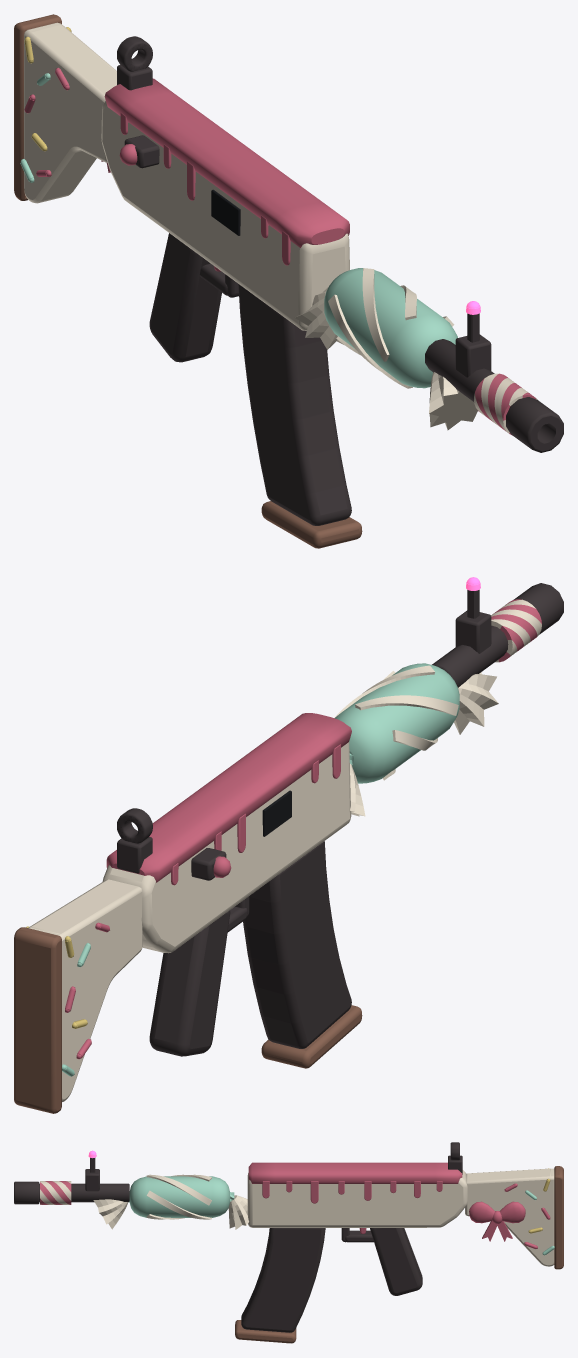
File: w_ar@ar_cute_d.glb
3 renders of one model, top to bottom at view 1: azimuth 30°, elevation 25°; view 2: azimuth 150°, elevation 25°; view 3: azimuth 270°, elevation 25°, orthographic. The views are drawn at different scales.
Parts seen in each view (by area): view 1: mag_wzB__dark__p3d3638, body_wzA__cream__pe9dfcd, body_wzN__berry__pc4637a, stock_wzA__cream__pe9dfcd, guard_wzA__mint__p9fd3c0, grip_wzB__dark__p3d3638, guard_wzN__cream__pe9dfcd, barrel_wzB__dark__p3d3638, sight_wzN__dark__p3d3638, mag_wzN__cocoa__p84604f, stock_wzN__cocoa__p84604f, candy_wzN__cream__pe9dfcd (+3 smaller); view 2: mag_wzB__dark__p3d3638, body_wzA__cream__pe9dfcd, body_wzN__berry__pc4637a, stock_wzA__cream__pe9dfcd, stock_wzN__cocoa__p84604f, grip_wzB__dark__p3d3638, guard_wzA__mint__p9fd3c0, guard_wzN__cream__pe9dfcd, sight_wzN__dark__p3d3638, barrel_wzB__dark__p3d3638, mag_wzN__cocoa__p84604f, candy_wzN__cream__pe9dfcd (+3 smaller); view 3: body_wzA__cream__pe9dfcd, mag_wzB__dark__p3d3638, body_wzN__berry__pc4637a, stock_wzA__cream__pe9dfcd, guard_wzA__mint__p9fd3c0, grip_wzB__dark__p3d3638, guard_wzN__cream__pe9dfcd, barrel_wzB__dark__p3d3638, stock_wzN__berry__pc4637a, stock_wzN__cocoa__p84604f, sight_wzN__dark__p3d3638, mag_wzN__cocoa__p84604f (+2 smaller).
Boxes of the visible parts, x1,y1,x2,y2 form: mag_wzB__dark__p3d3638: [238, 284, 351, 525]; body_wzA__cream__pe9dfcd: [101, 101, 349, 330]; body_wzN__berry__pc4637a: [104, 78, 349, 265]; stock_wzA__cream__pe9dfcd: [24, 22, 116, 203]; guard_wzA__mint__p9fd3c0: [324, 268, 457, 388]; grip_wzB__dark__p3d3638: [149, 233, 238, 362]; guard_wzN__cream__pe9dfcd: [294, 268, 477, 430]; barrel_wzB__dark__p3d3638: [425, 339, 563, 452]; sight_wzN__dark__p3d3638: [117, 36, 491, 377]; mag_wzN__cocoa__p84604f: [261, 501, 362, 548]; stock_wzN__cocoa__p84604f: [14, 14, 61, 200]; candy_wzN__cream__pe9dfcd: [474, 373, 537, 433]; mag_wzB__dark__p3d3638: [243, 841, 351, 1048]; body_wzA__cream__pe9dfcd: [102, 741, 351, 953]; body_wzN__berry__pc4637a: [106, 713, 351, 885]; stock_wzA__cream__pe9dfcd: [28, 879, 142, 1101]; stock_wzN__cocoa__p84604f: [14, 927, 61, 1113]; grip_wzB__dark__p3d3638: [149, 896, 249, 1056]; guard_wzA__mint__p9fd3c0: [334, 663, 459, 783]; guard_wzN__cream__pe9dfcd: [334, 665, 498, 816]; sight_wzN__dark__p3d3638: [117, 590, 491, 873]; barrel_wzB__dark__p3d3638: [432, 583, 563, 687]; mag_wzN__cocoa__p84604f: [261, 1005, 362, 1068]; candy_wzN__cream__pe9dfcd: [491, 599, 541, 662]; body_wzA__cream__pe9dfcd: [247, 1170, 467, 1227]; mag_wzB__dark__p3d3638: [241, 1228, 325, 1332]; body_wzN__berry__pc4637a: [248, 1162, 462, 1203]; stock_wzA__cream__pe9dfcd: [465, 1168, 554, 1266]; guard_wzA__mint__p9fd3c0: [129, 1176, 229, 1217]; grip_wzB__dark__p3d3638: [341, 1228, 422, 1295]; guard_wzN__cream__pe9dfcd: [93, 1174, 248, 1229]; barrel_wzB__dark__p3d3638: [14, 1181, 129, 1204]; stock_wzN__berry__pc4637a: [469, 1183, 550, 1248]; stock_wzN__cocoa__p84604f: [554, 1166, 563, 1269]; sight_wzN__dark__p3d3638: [85, 1142, 462, 1191]; mag_wzN__cocoa__p84604f: [235, 1320, 296, 1343].
Size of the model in its own units: 0.1209 by 0.4649 by 1.19.
